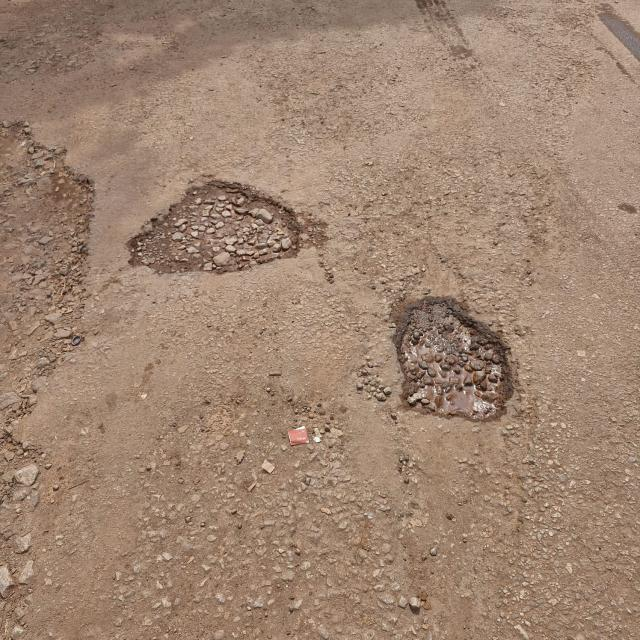pothole: (2, 113, 100, 640), (375, 291, 526, 440), (124, 178, 320, 284), (5, 0, 134, 95)
